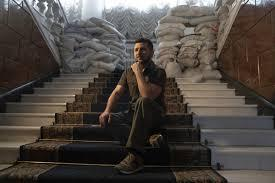Persons: (126, 37, 157, 65)
